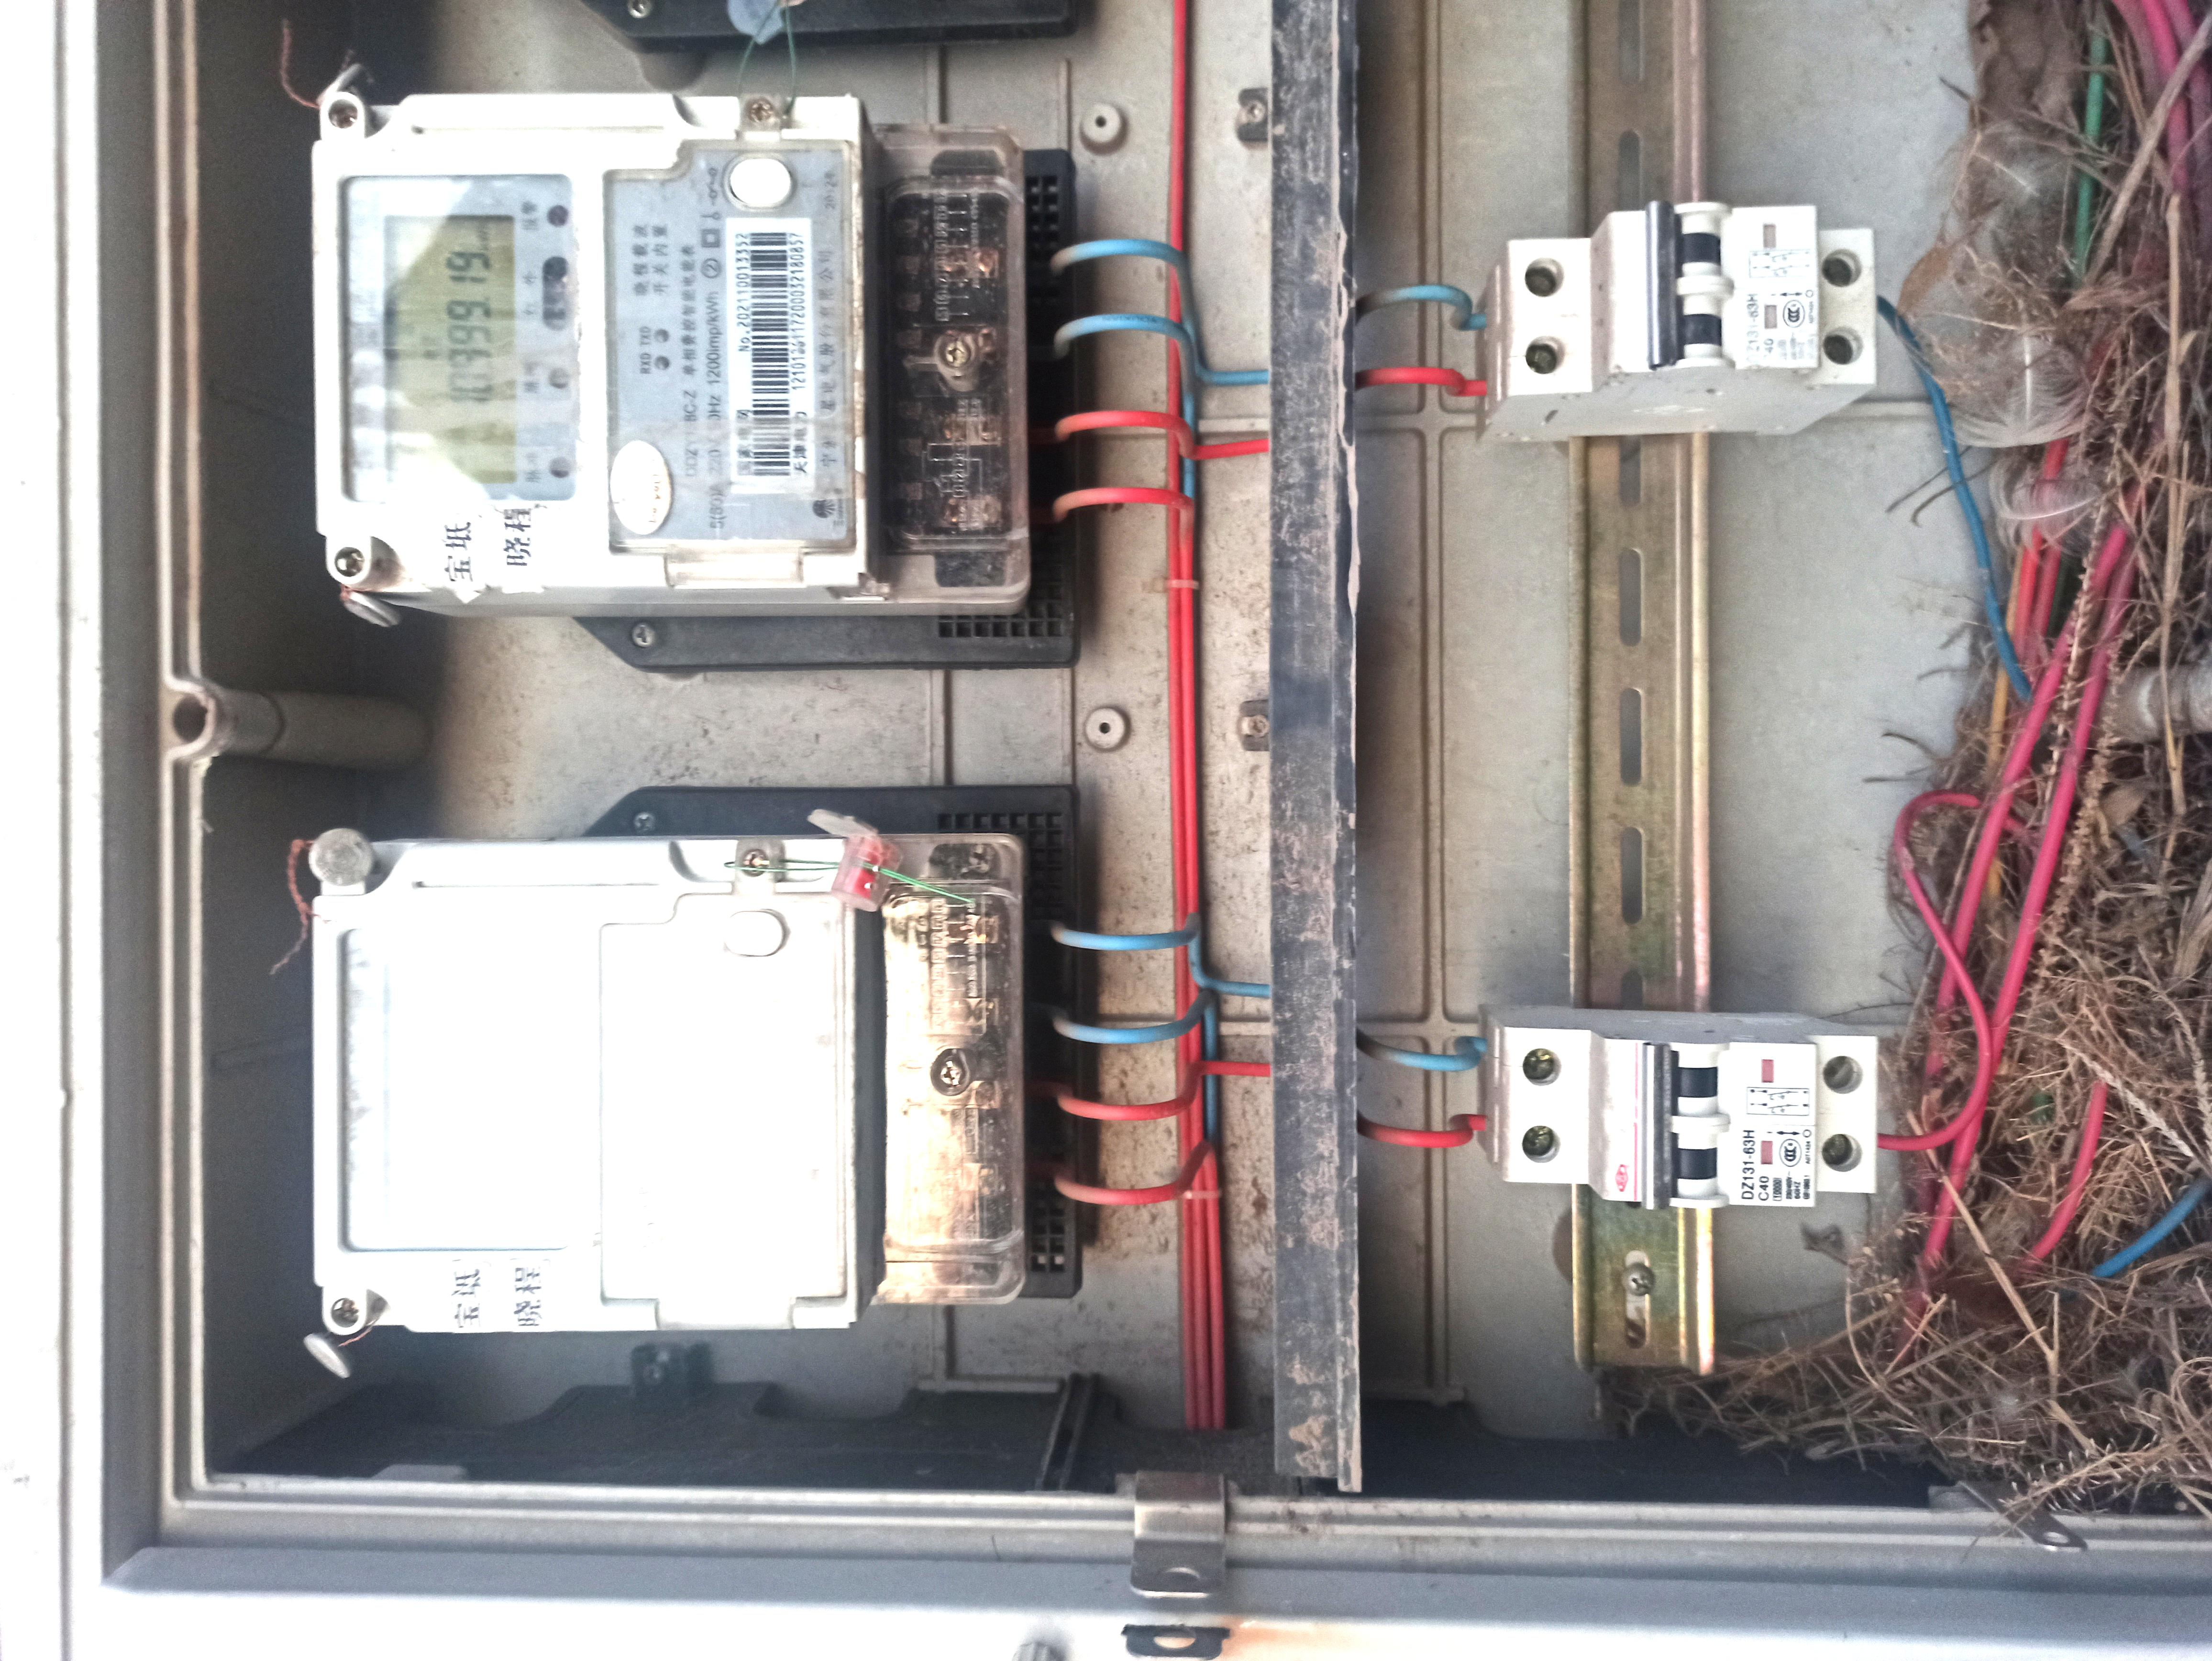digital: (307, 834, 858, 1333), (312, 96, 864, 591)
